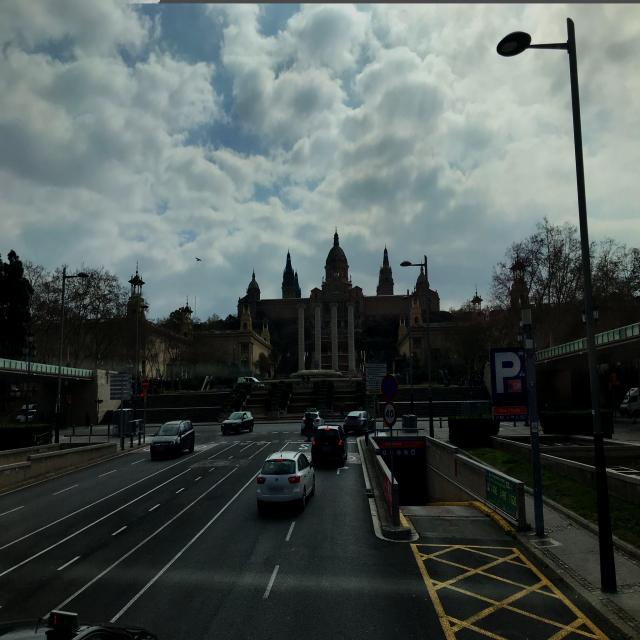car: (256, 449, 316, 513), (149, 419, 195, 460), (310, 424, 348, 466), (221, 410, 254, 435), (619, 386, 640, 419), (343, 409, 370, 434), (300, 410, 324, 438)
